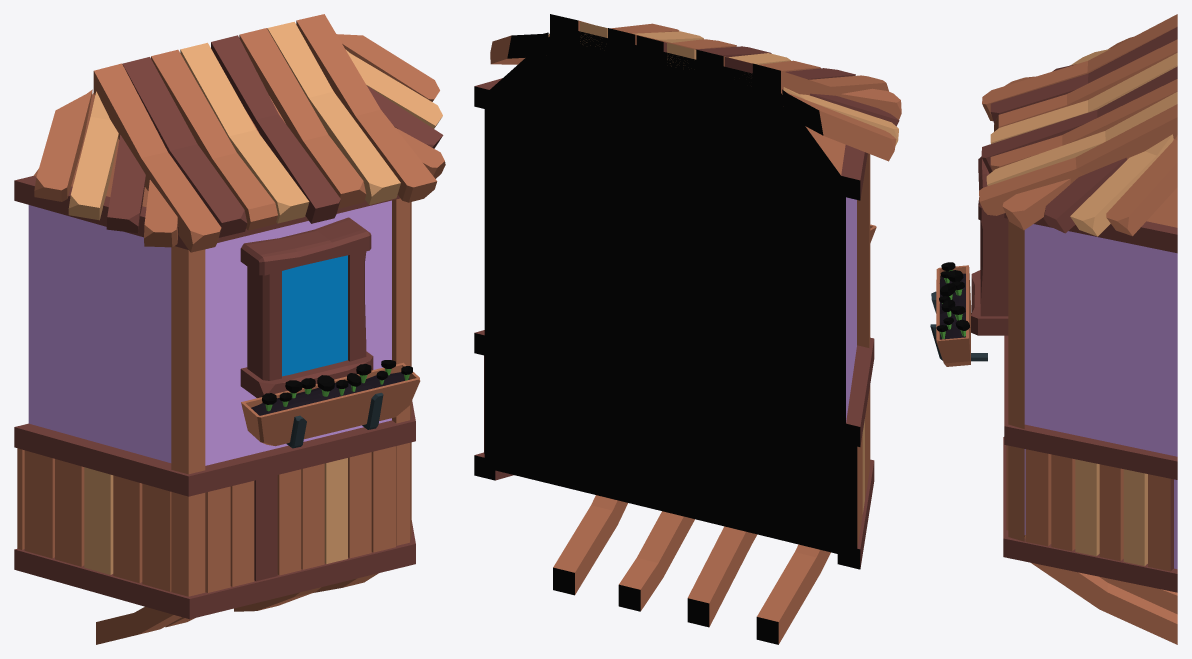
File: Building Addon 06.fbx
The picture shows the model from 3 angles, left to right: view 1: azimuth 30°, elevation 25°; view 2: azimuth 150°, elevation 25°; view 3: azimuth 270°, elevation 25°; orthographic projection. The views are drawn at different scales.
Parts seen in each view (by area): view 1: Building Addon 06; view 2: Building Addon 06; view 3: Building Addon 06.
Part boxes in pixels (box(x1,y1,x2,y2)): Building Addon 06: box(14, 14, 445, 644); Building Addon 06: box(474, 14, 901, 644); Building Addon 06: box(930, 14, 1177, 644).
Bounding box in the file's own units: 502 × 683 × 289.
